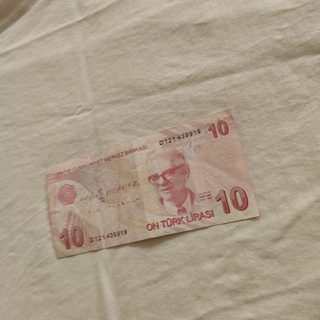10TLBack: (44, 106, 260, 259)
